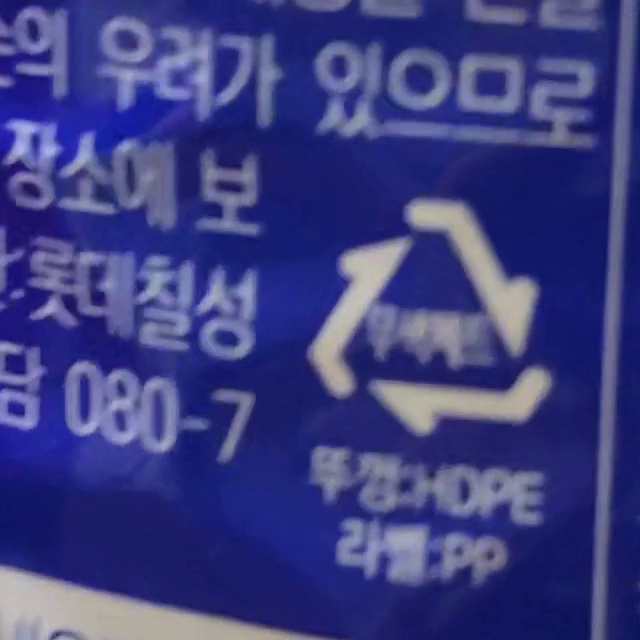ColorlessPet: (310, 201, 549, 436)
